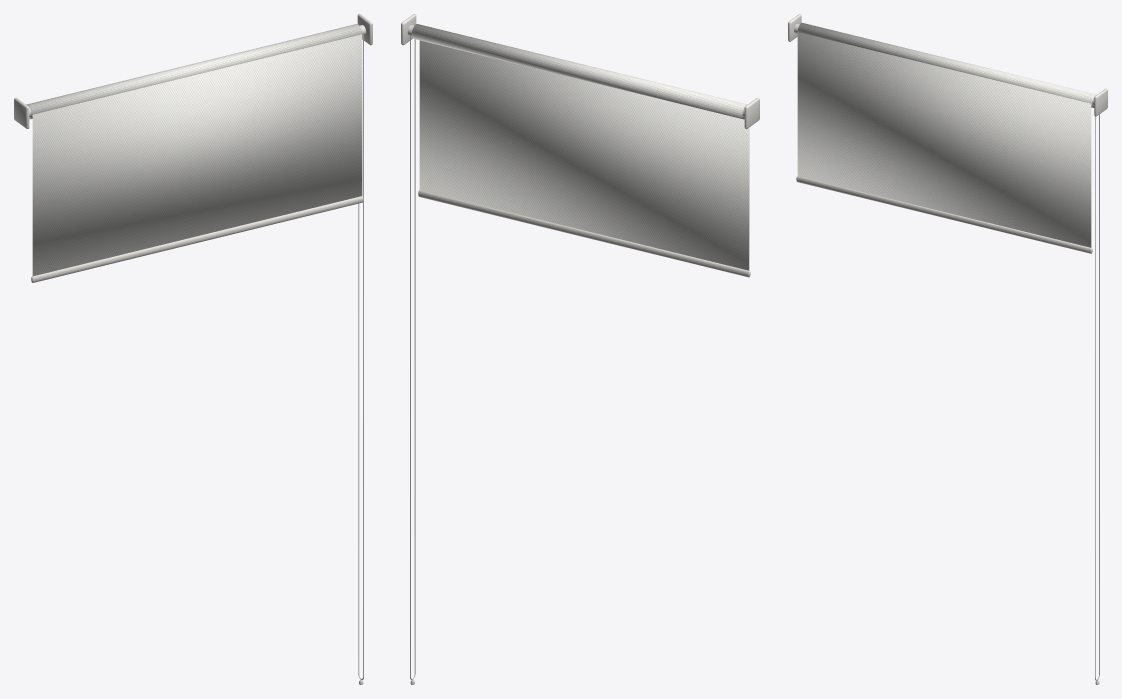
File: estor_enrollable_220_c25.glb
3 views of the same model, side by side, from view 1: azimuth 30°, elevation 25°; view 2: azimuth 150°, elevation 25°; view 3: azimuth 330°, elevation 25° (orthographic). The views are drawn at different scales.
Visible parts, largest first — view 1: estor_enrollable_220_c25; view 2: estor_enrollable_220_c25; view 3: estor_enrollable_220_c25.
Part boxes in pixels (x1,y1,x2,y2): estor_enrollable_220_c25: (14, 14, 372, 684); estor_enrollable_220_c25: (401, 14, 759, 684); estor_enrollable_220_c25: (788, 14, 1107, 684).
Bounding box in the file's own units: 1.2 × 2.2 × 0.08.
4 materials, 1 textured.
